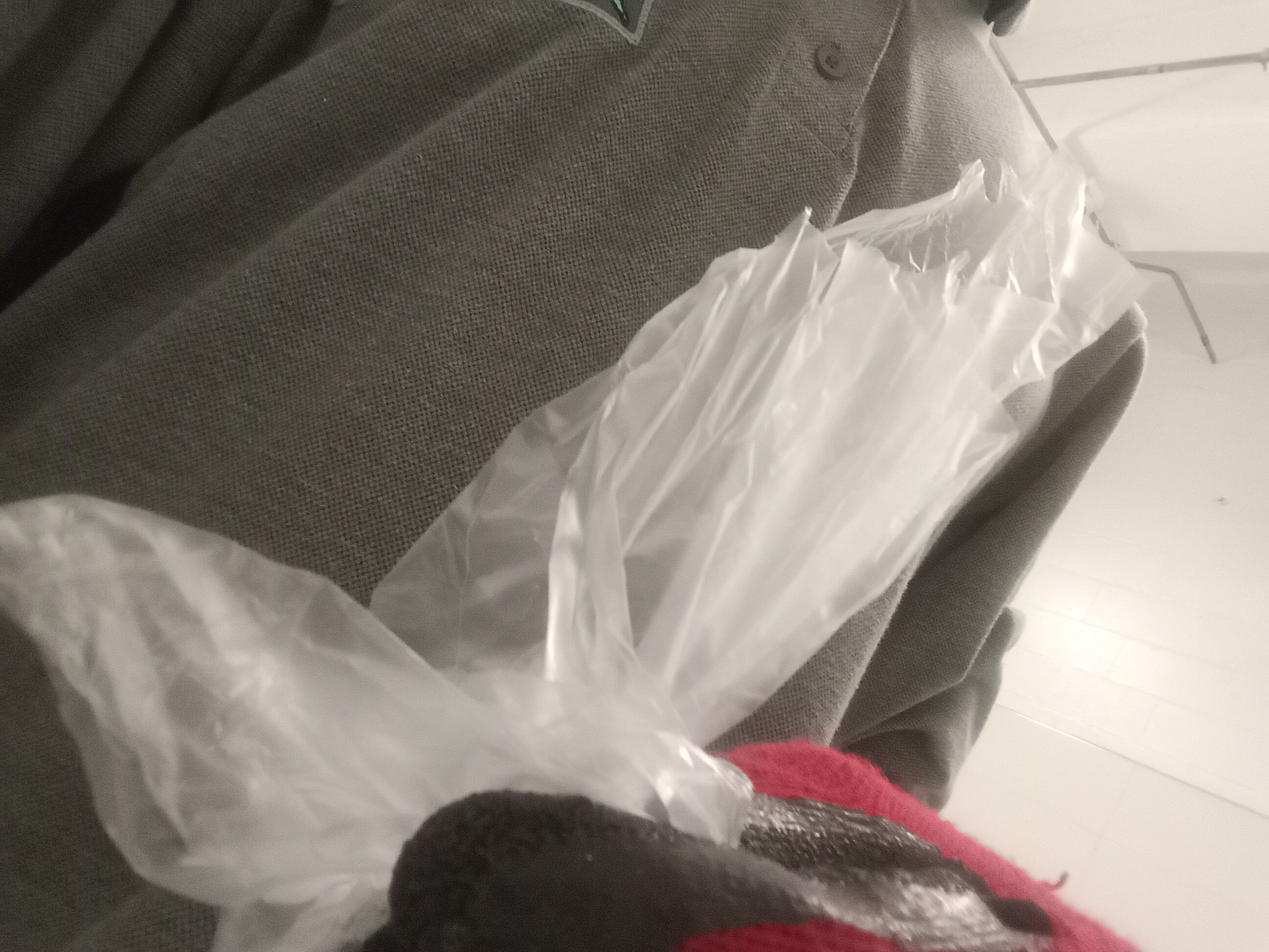Plastico: (0, 157, 1143, 952)
